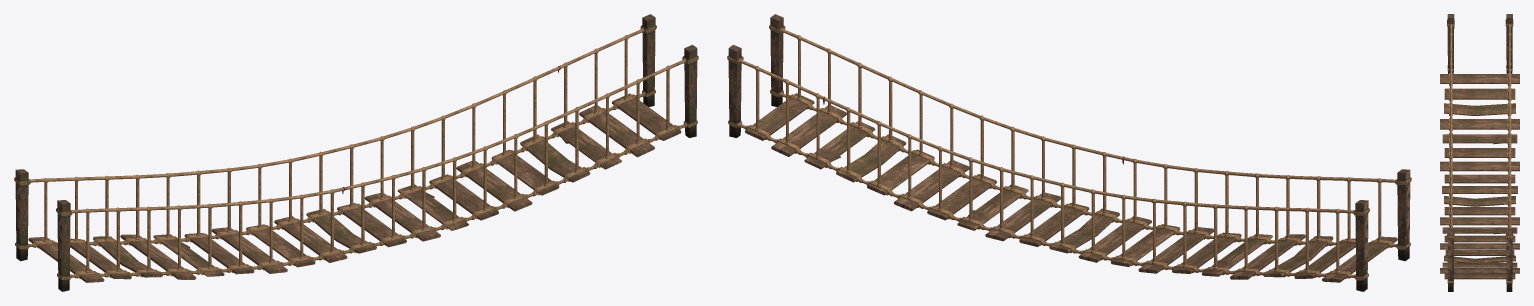
The picture shows the model from 3 angles, left to right: view 1: azimuth 30°, elevation 25°; view 2: azimuth 150°, elevation 25°; view 3: azimuth 270°, elevation 25°; orthographic projection. The views are drawn at different scales.
Visible parts, largest first — view 1: ropebridge; view 2: ropebridge; view 3: ropebridge.
Boxes of the visible parts, box(x1,y1,x2,y2) form: ropebridge: box(14, 14, 698, 291); ropebridge: box(727, 14, 1411, 291); ropebridge: box(1440, 14, 1519, 291).
Size of the model in its own units: 9.38 by 1.75 by 1.46.
Materials: 1 (1 with a texture image).
